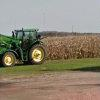Tractor: (1, 22, 52, 71)
